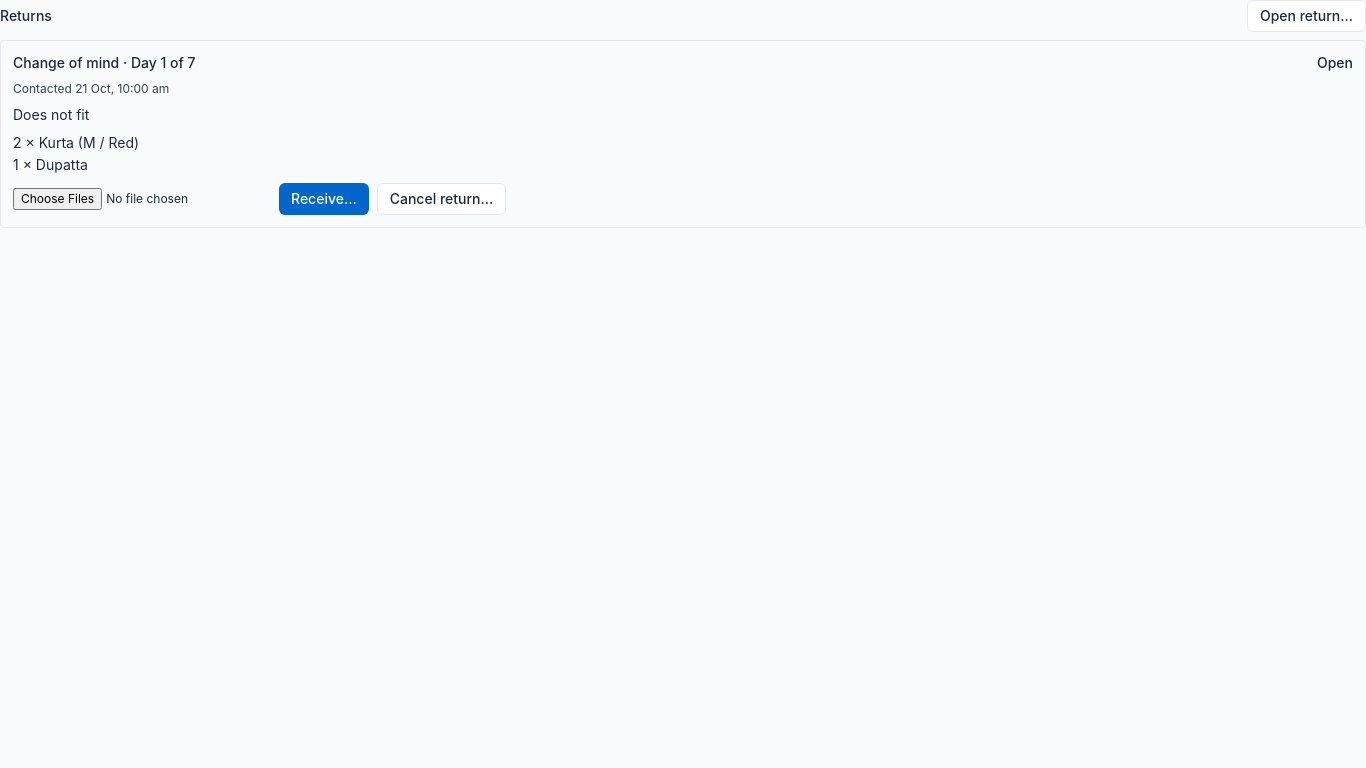
Test: Receive dialog › fewer pieces back than expected requires a note; full receipt does not
Click the button "Receive…" at {"x": 324, "y": 199}, box [279,183,369,215]
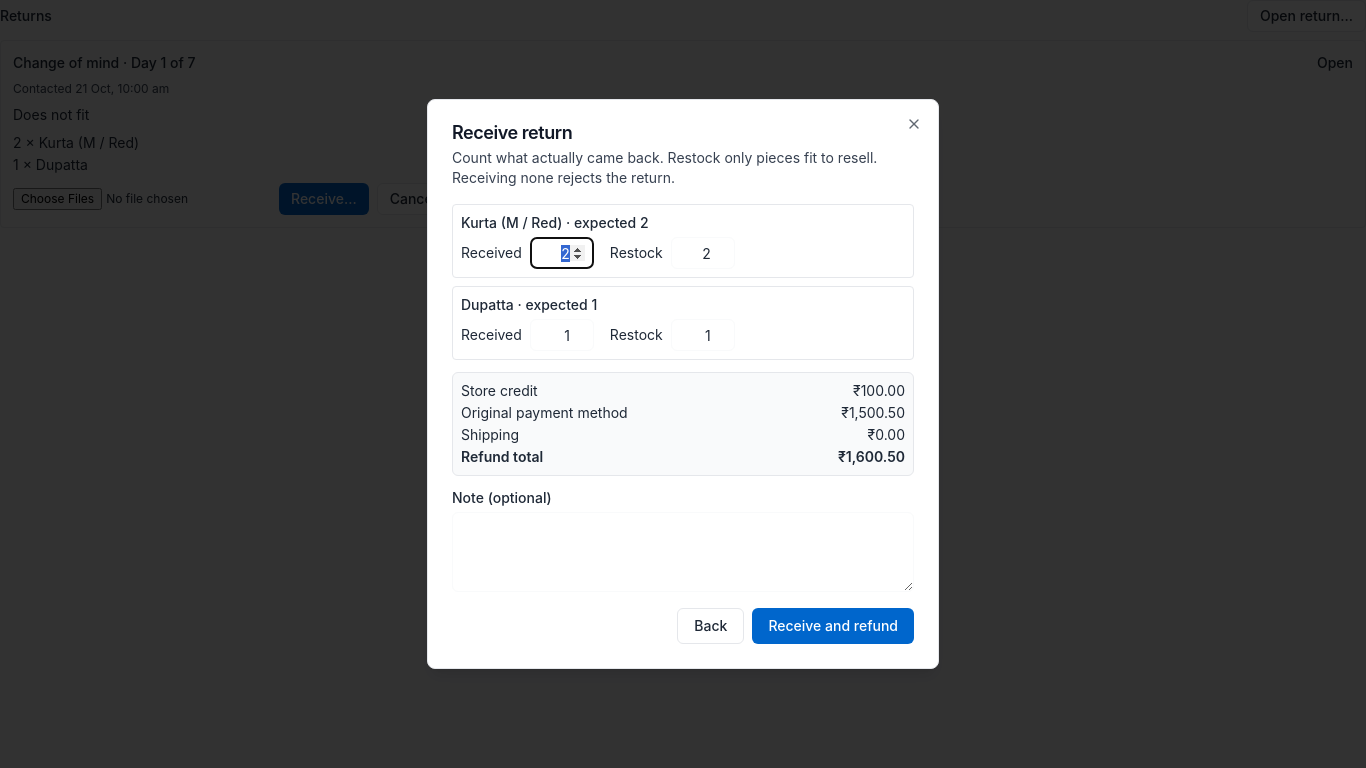
Expected: the button "Receive and refund" is enabled, [752,608,914,644]
Replace the text in the number field named "Received units of Kurta" with "1" at {"x": 562, "y": 253}, box [530,237,594,269]
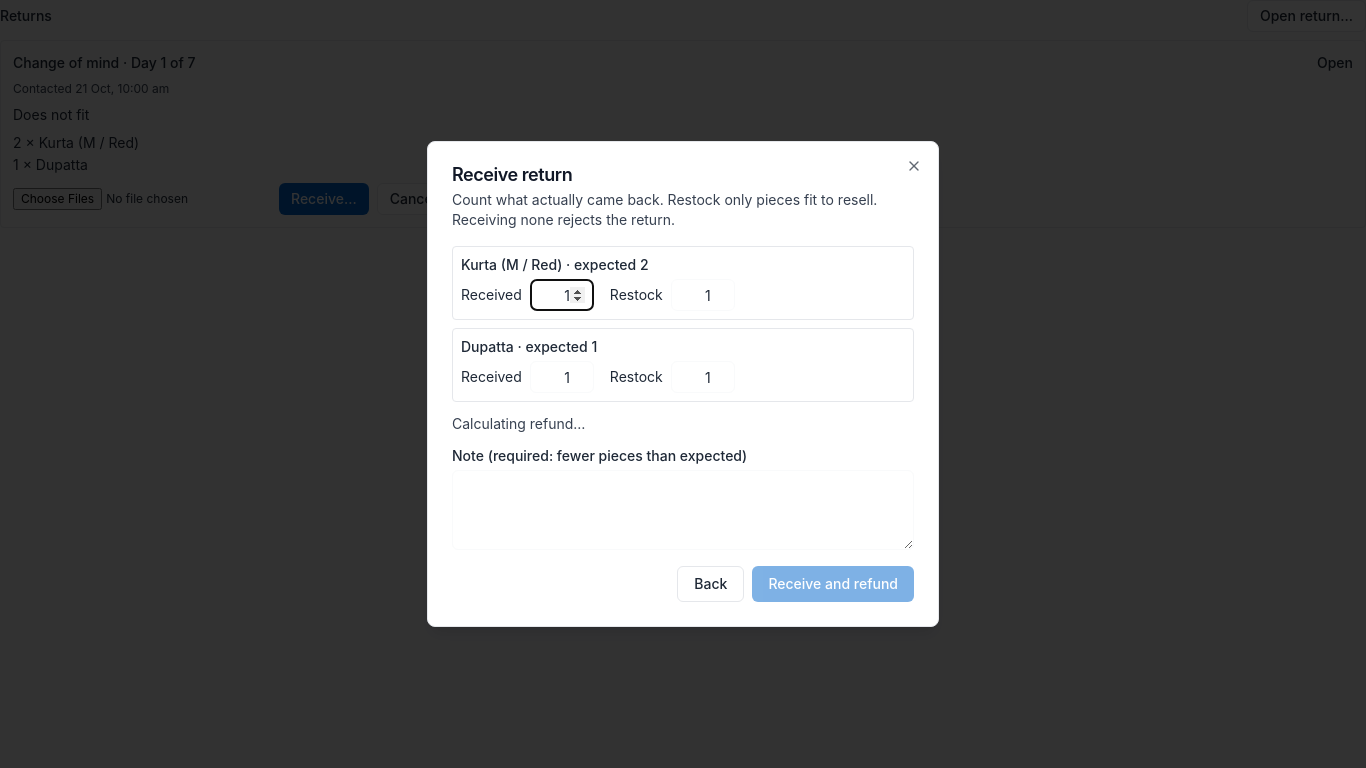
Expected: the button "Receive and refund" is disabled, [752,566,914,602]
Type "One piece missing" into the text box named "Receive note" at {"x": 683, "y": 510}, box [452,470,914,550]
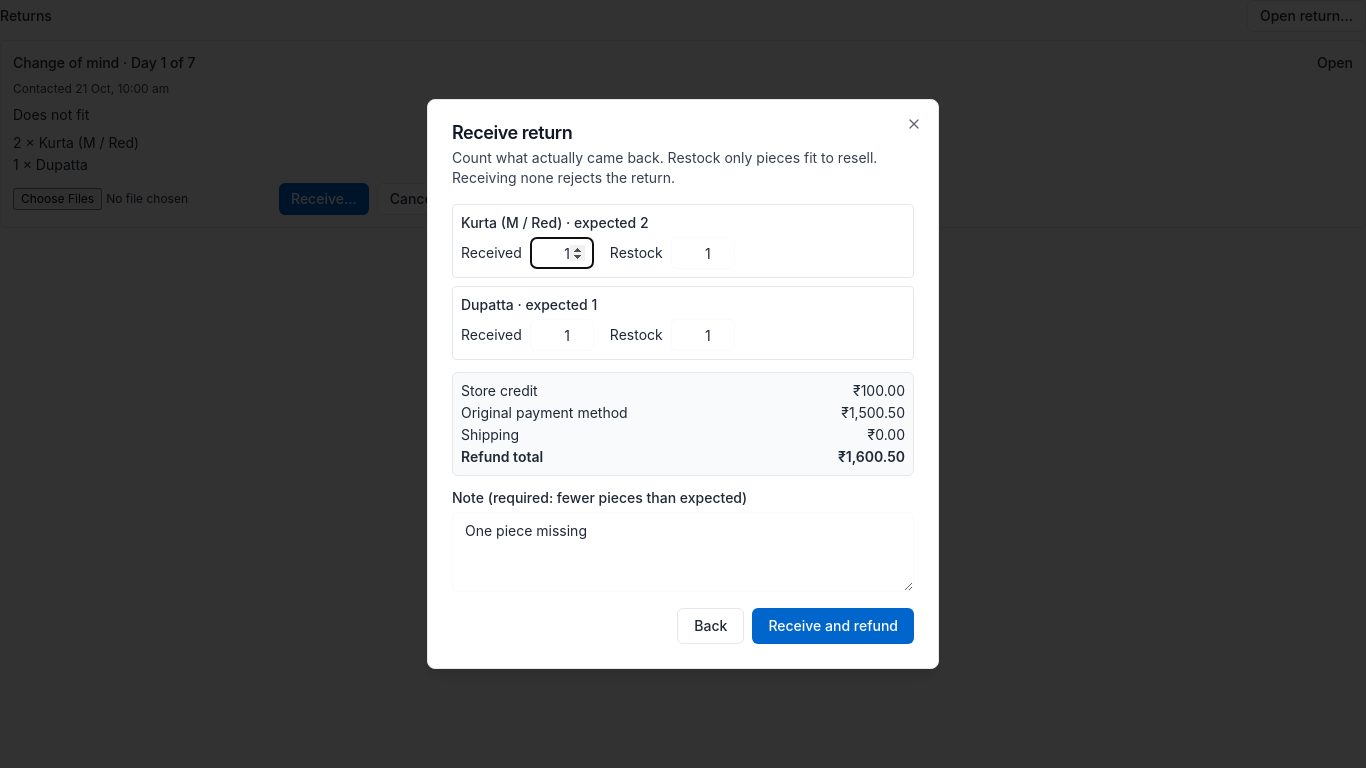
Expected: the button "Receive and refund" is enabled, [752,608,914,644]
